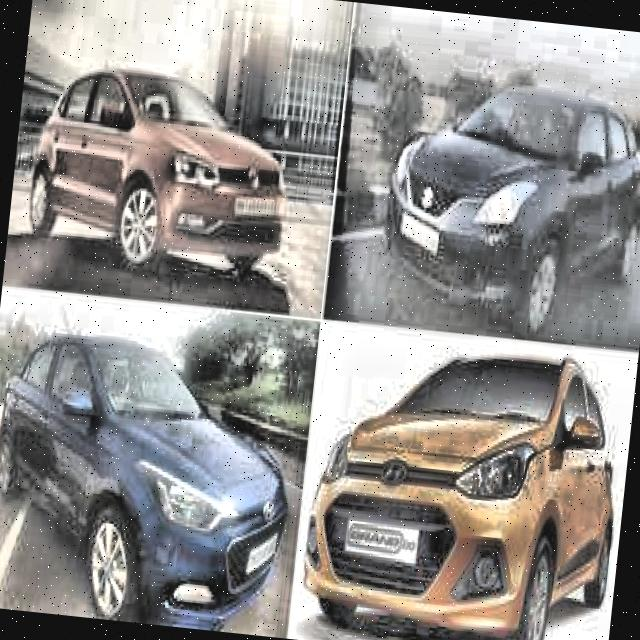license_plate: (344, 516, 422, 569), (394, 209, 444, 258), (243, 530, 280, 575), (229, 190, 278, 222)
